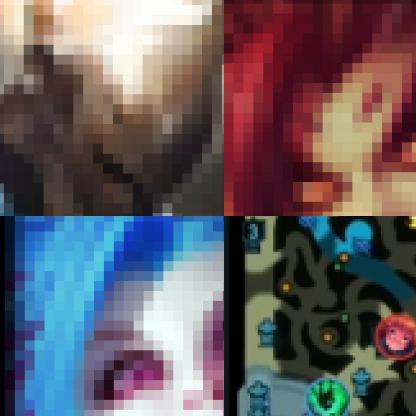Jinx: (0, 216, 223, 415)
Pantheon: (0, 0, 223, 215)
Thresh: (304, 377, 352, 415)
Zoe: (375, 312, 415, 361)
Zyra: (224, 0, 415, 215)
